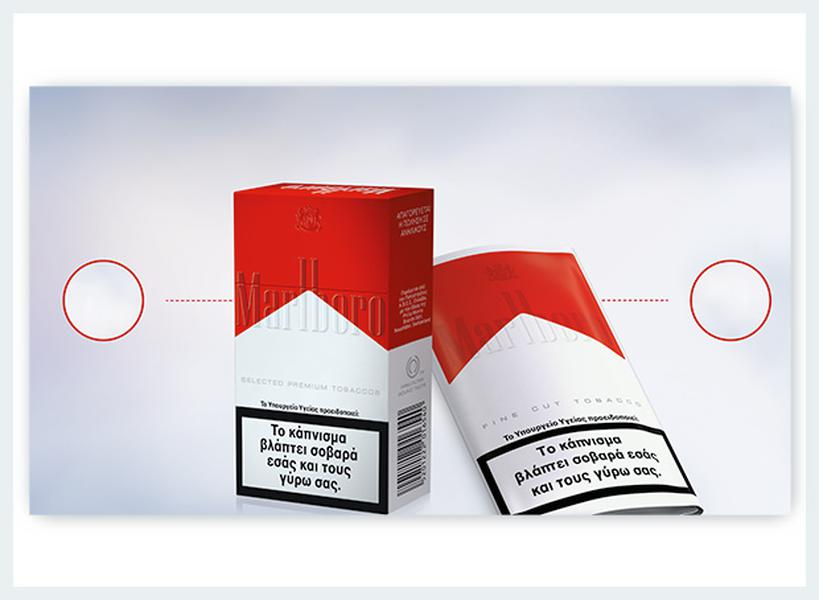marlboro_red: (236, 196, 395, 496), (448, 257, 598, 481)
